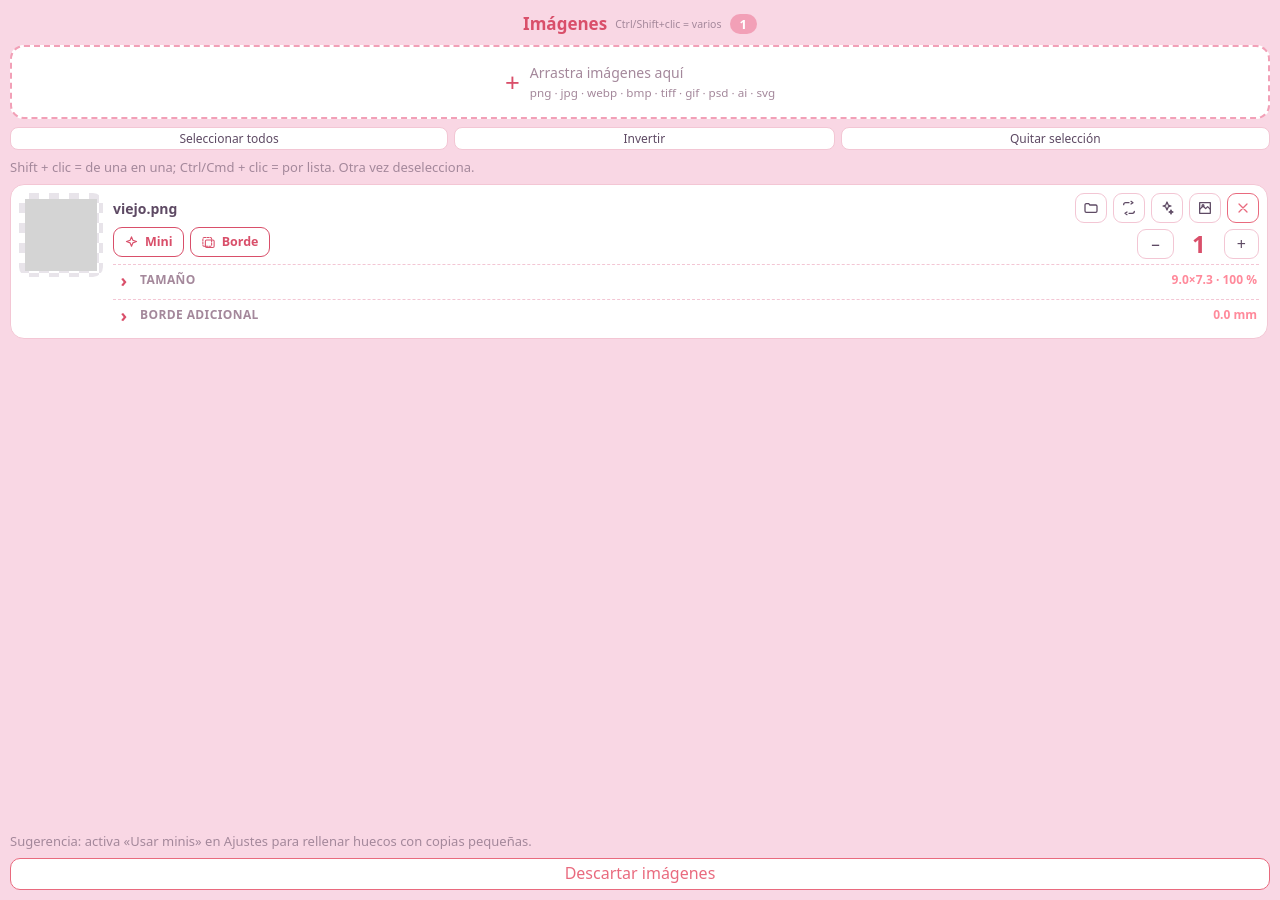
it: Panel de archivos › no muestra NaN aunque falten campos (sesiones antiguas)
Check: the text with test id "tamano-v1" shows "9.0×7.3", box [1172,274,1257,286]
Click the button with test id "fold-tamano-v1": (168, 280) [113,265,1259,295]
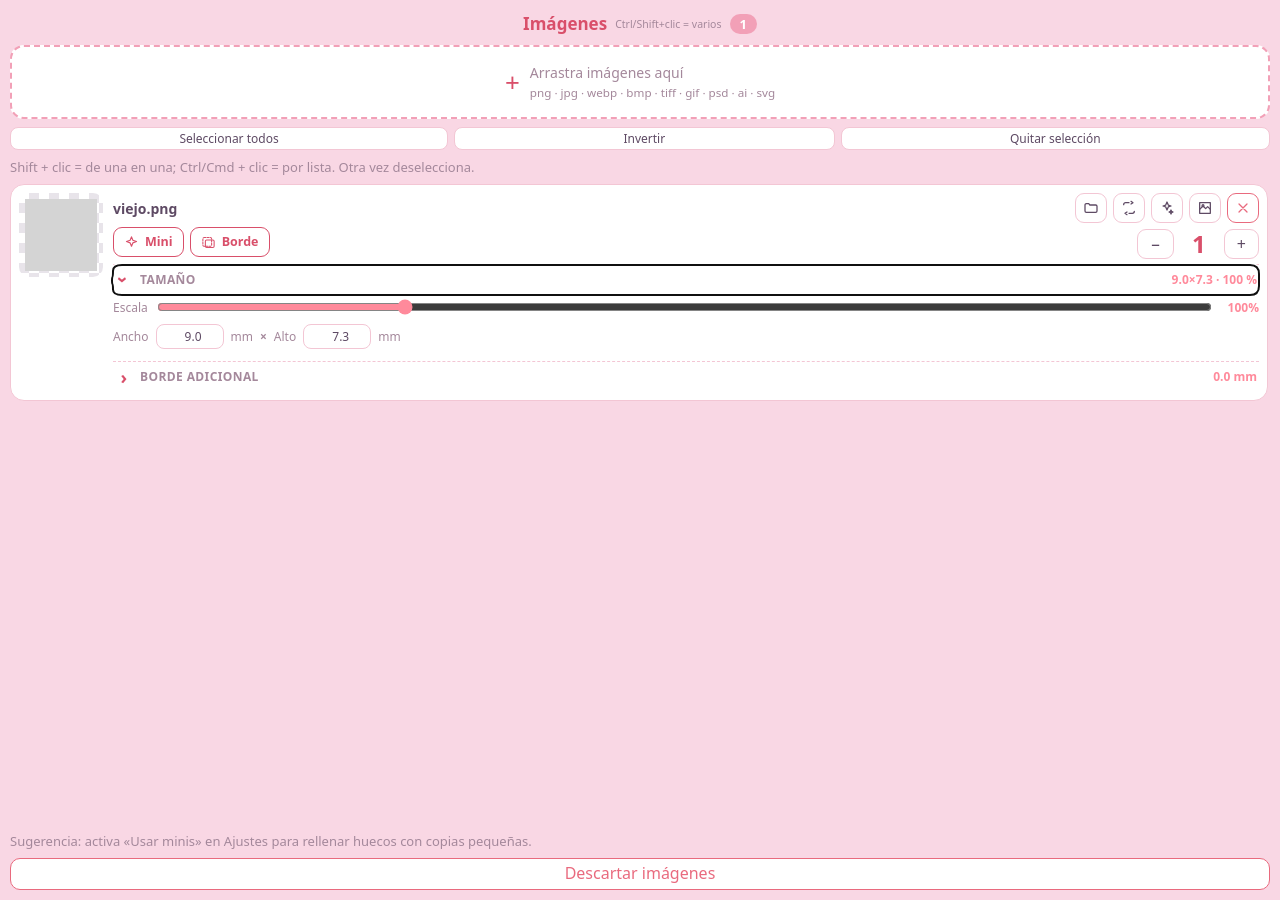
Check: the text "100%" is shown, box [1228,299,1259,316]
